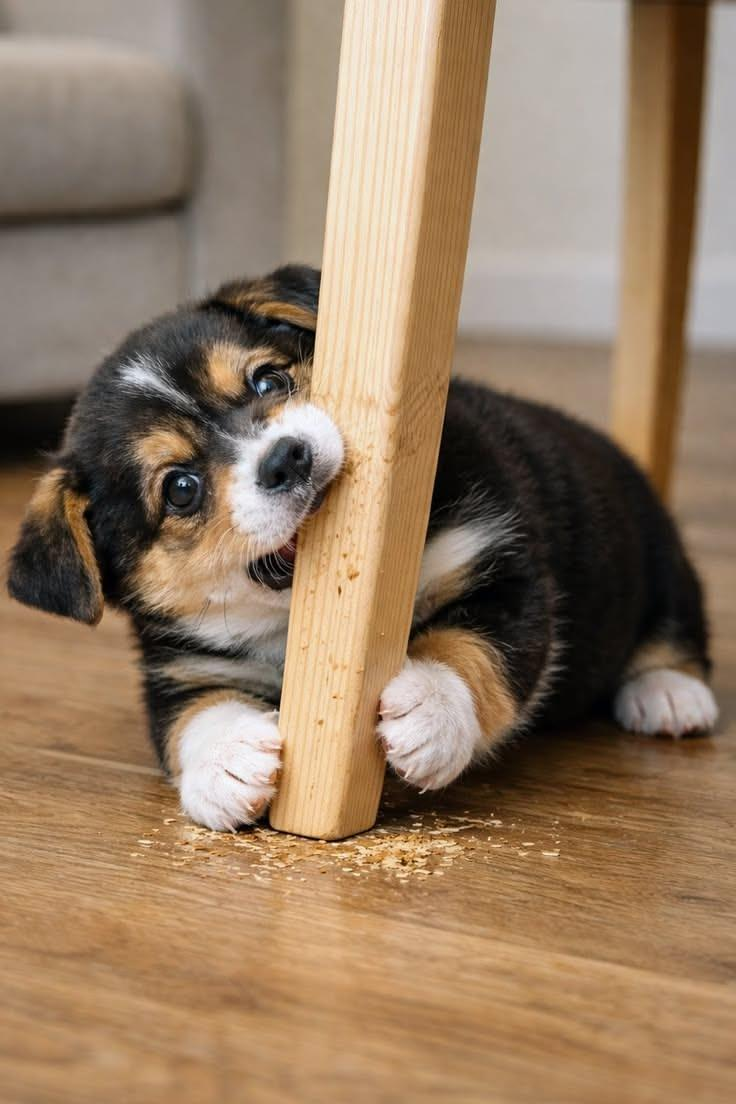puppy-dog: (5, 259, 720, 834)
